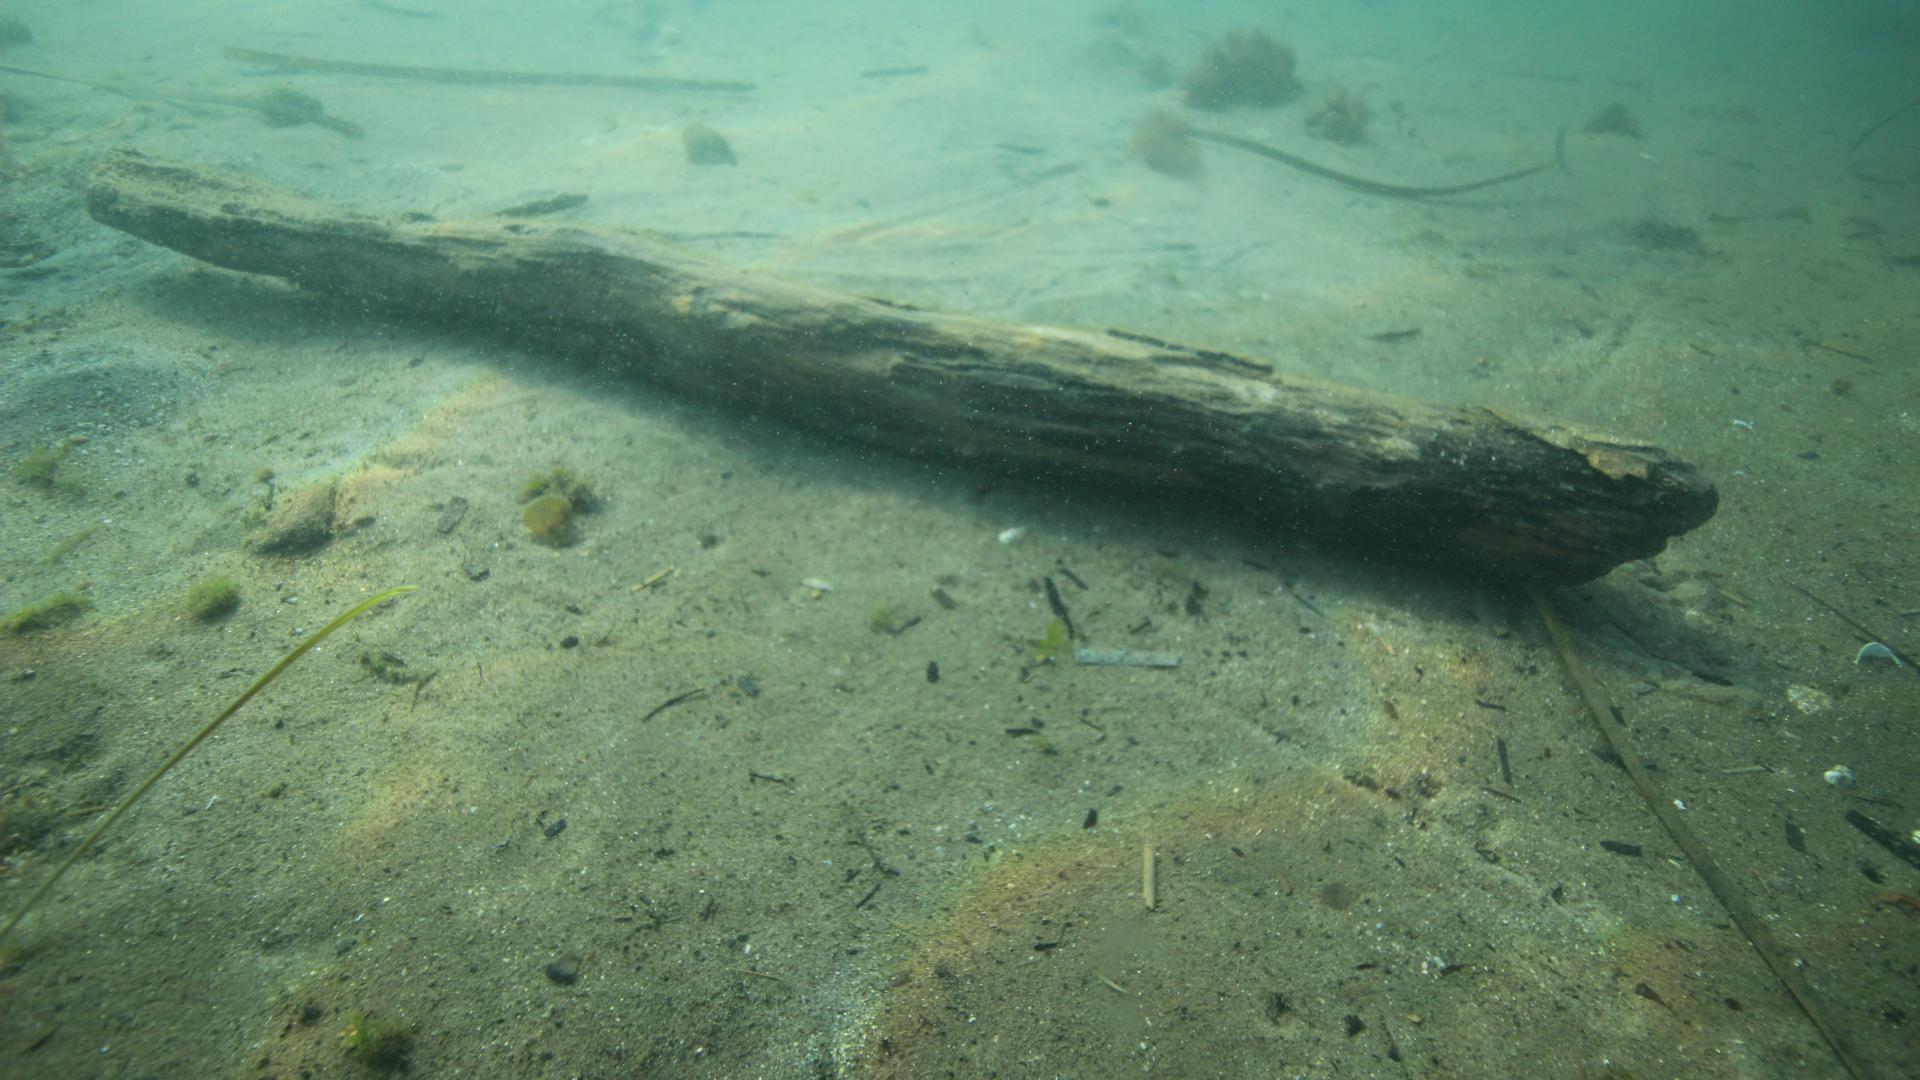wood: (79, 167, 1727, 607)
